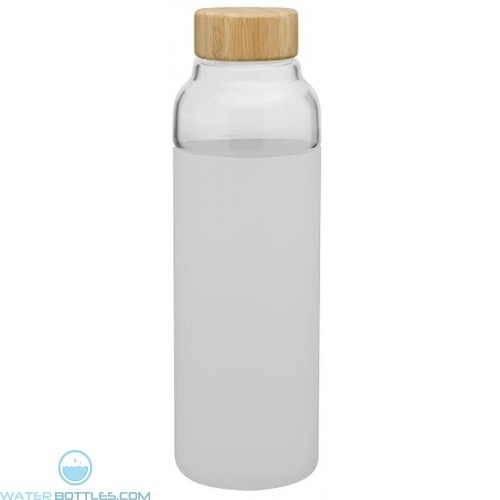container: (159, 4, 327, 495)
